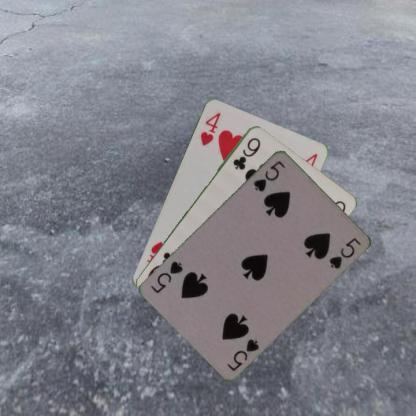4h: (197, 110, 222, 146)
5s: (224, 336, 261, 372), (250, 158, 286, 193)
9c: (230, 135, 262, 171)
